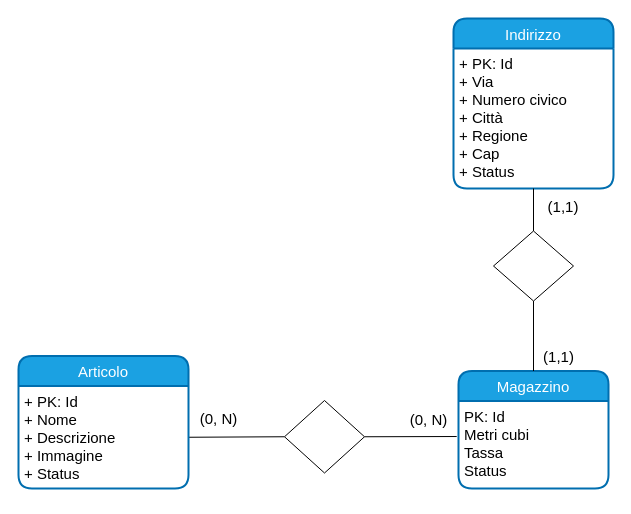
This 631x514 diagram has some shape labels left out. The centre of each missing label's shape, as x and y in pixels:
"Risiede" goes at (324,436).
"Ubicato" goes at (533,265).
